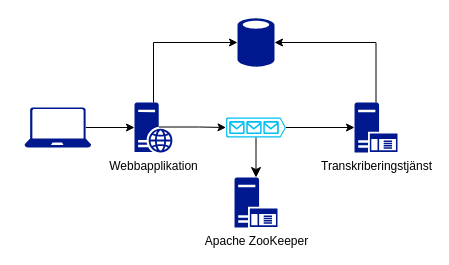
Some shapes in this 449 by 265 pixel diagram are drawn without their labels. The shapes that lost their labels are listed below. From the top down, each one's box as (x1, y1, x2, y2) in pixels, then its label:
(24, 107, 91, 147): Användaragent
(226, 117, 286, 137): Transkriberingskö (Kafka Topic)
